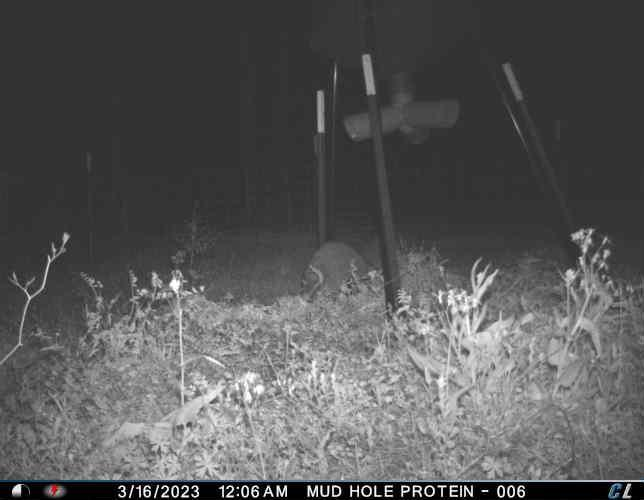Raccoon: (301, 237, 385, 307)
